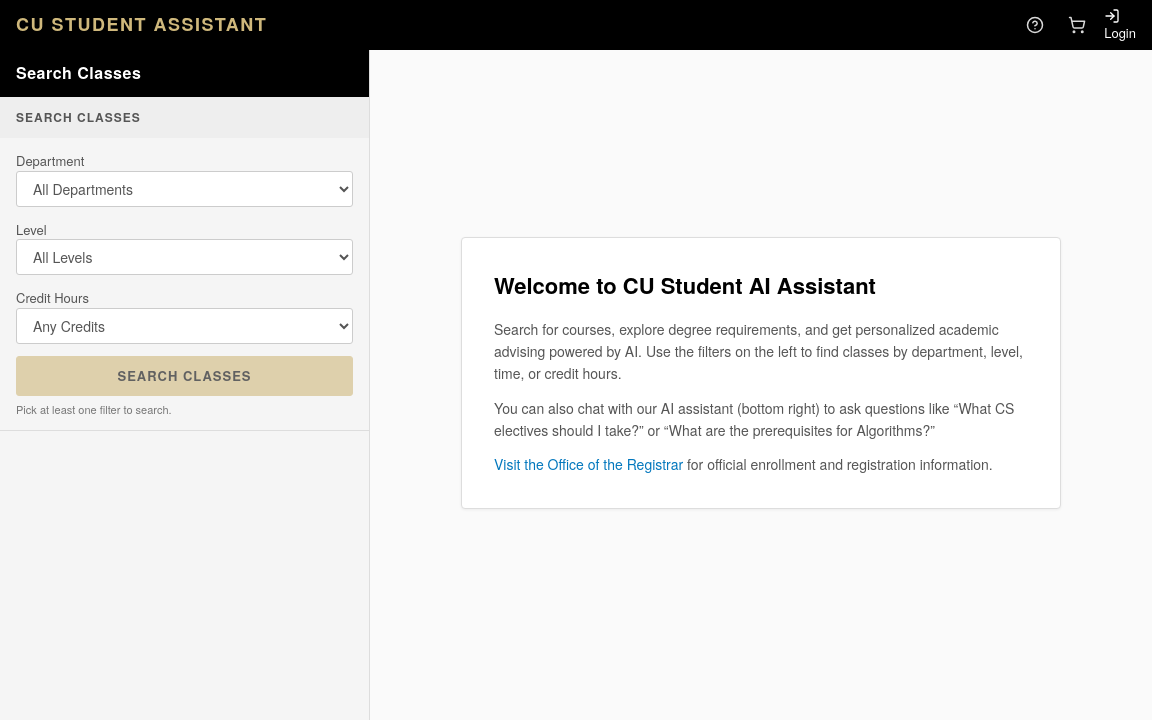
Test case: CourseSearchView › shows course rows after a successful fetch
This screenshot has width=1152, height=720.
Select "CSCI — Computer Science" in the dropdown with id "filter-dept" at (184, 188), box [16, 170, 353, 206]
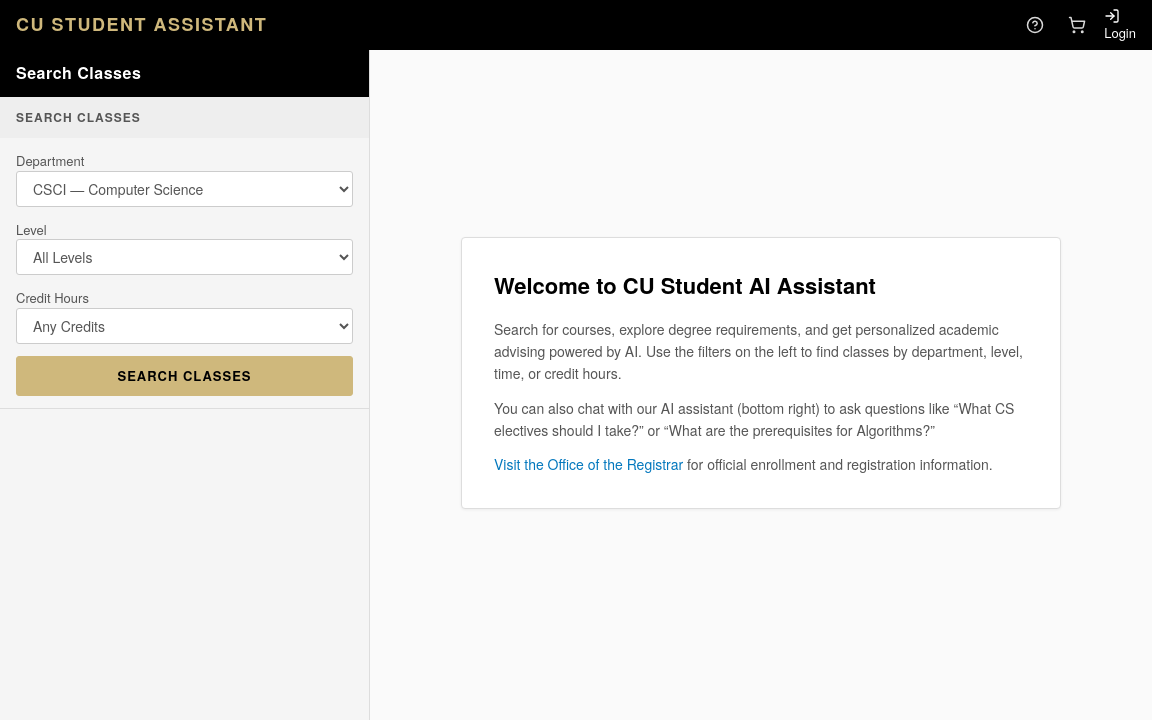
Note: Trigger search via FilterBar's submit event
Submit the form, box [0, 97, 369, 409]
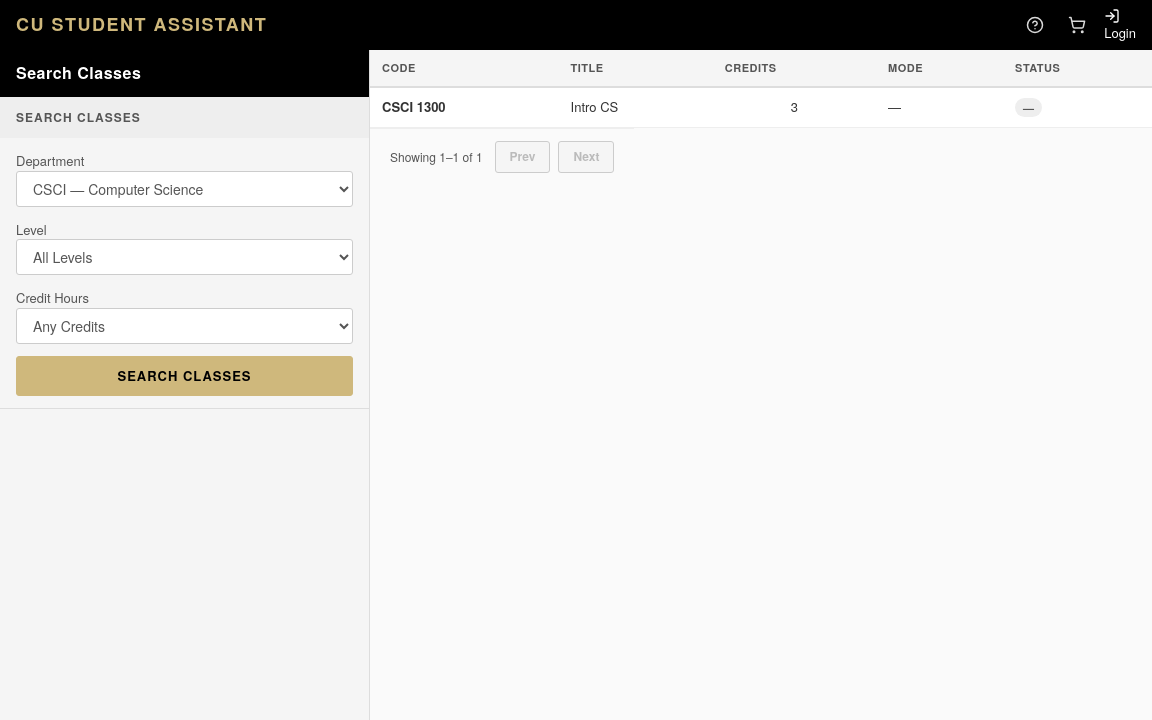
Expected: the text "CSCI 1300" is shown, [370, 87, 559, 128]
